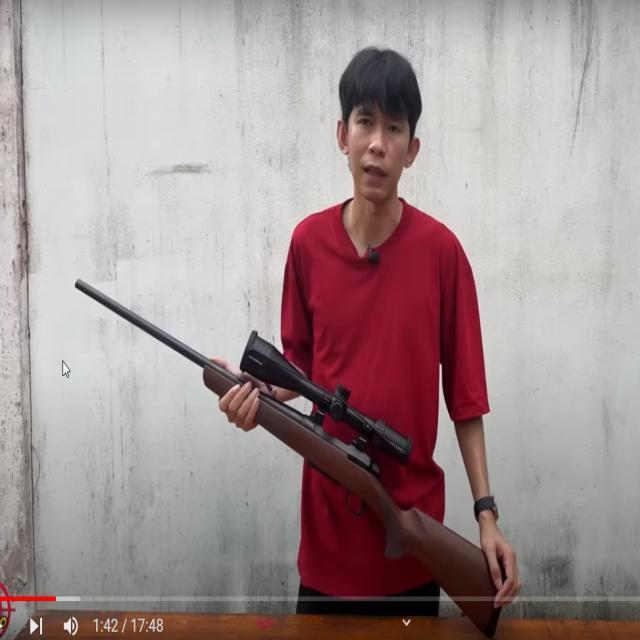rifle: (65, 264, 528, 633)
